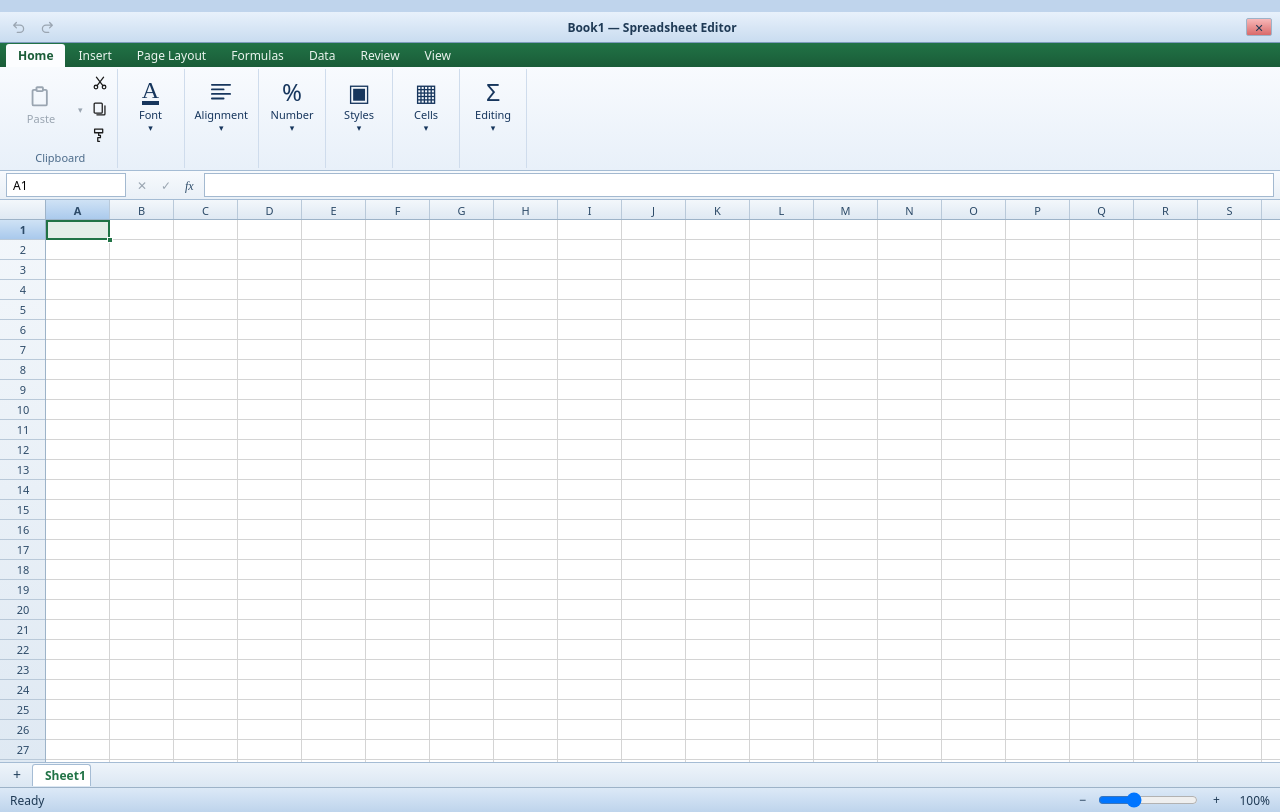
Test: the controls the new tabs actually wire › will not hide the only visible sheet
The width and height of the screenshot is (1280, 812).
Click the tab "View" at (438, 56), box 413,44 -> 463,67
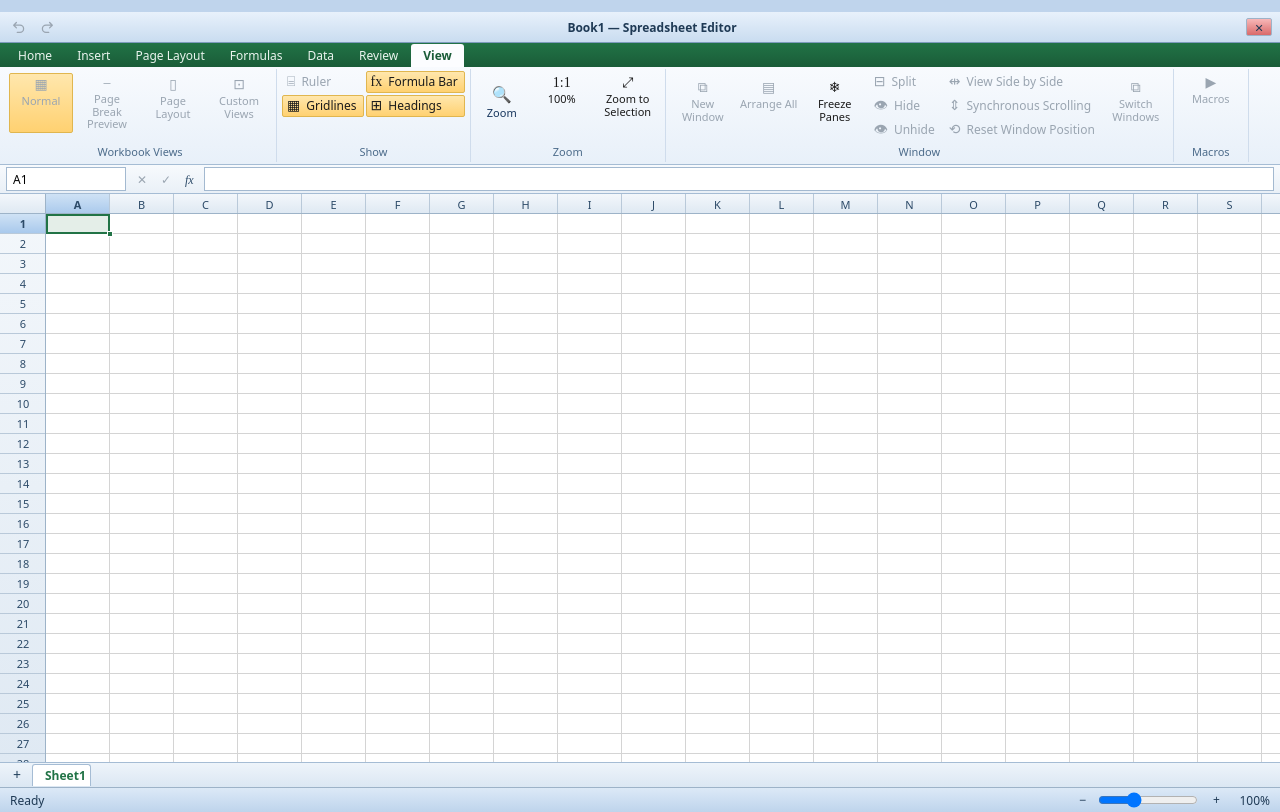
Check: the button "👁 Hide" is disabled, box 869,95 -> 942,117
Check: the button "👁 Unhide" is disabled, box 869,119 -> 942,141
